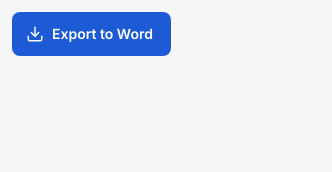
Test: ExportButton › is aria-disabled and ignores clicks while busy
Click the button "Export to Word": (91, 34) left=12, top=12, right=171, bottom=56
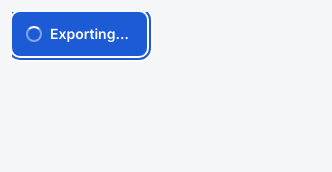
Result: the button named "Export to Word" reads "Exporting…"
Click the button named "Export to Word": (79, 34) left=12, top=12, right=147, bottom=56
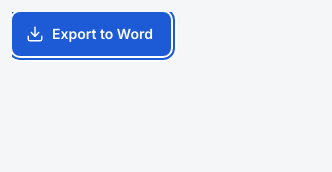
Result: the button "Export to Word" does not have attribute aria-disabled at left=12, top=12, right=171, bottom=56
